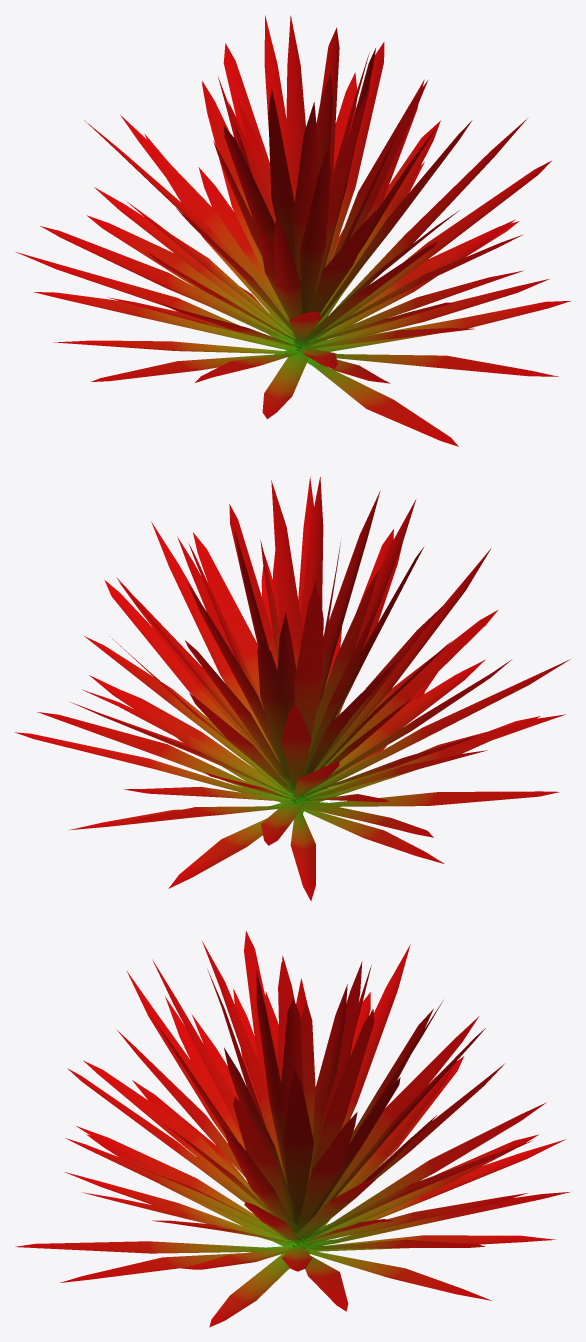
Rendered from SM_Bush01_LOD2.fbx.
3 views of the same model, one above another, from view 1: azimuth 30°, elevation 25°; view 2: azimuth 150°, elevation 25°; view 3: azimuth 270°, elevation 25° (orthographic). The views are drawn at different scales.
Visible parts, largest first — view 1: _44h1_Var10_LOD5; view 2: _44h1_Var10_LOD5; view 3: _44h1_Var10_LOD5.
Boxes of the visible parts, x1,y1,x2,y2 form: _44h1_Var10_LOD5: (16,15,571,446); _44h1_Var10_LOD5: (15,476,570,901); _44h1_Var10_LOD5: (15,931,571,1327).
Bounding box in the file's own units: 90.47 × 55.57 × 91.86.
